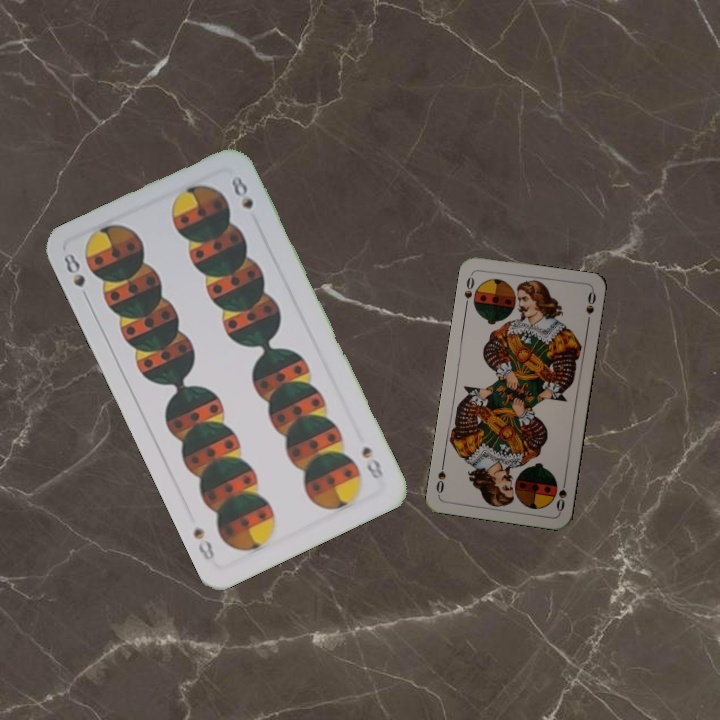S8: (58, 248, 93, 305), (357, 441, 386, 482)
SO: (552, 474, 569, 514), (460, 270, 477, 310)
